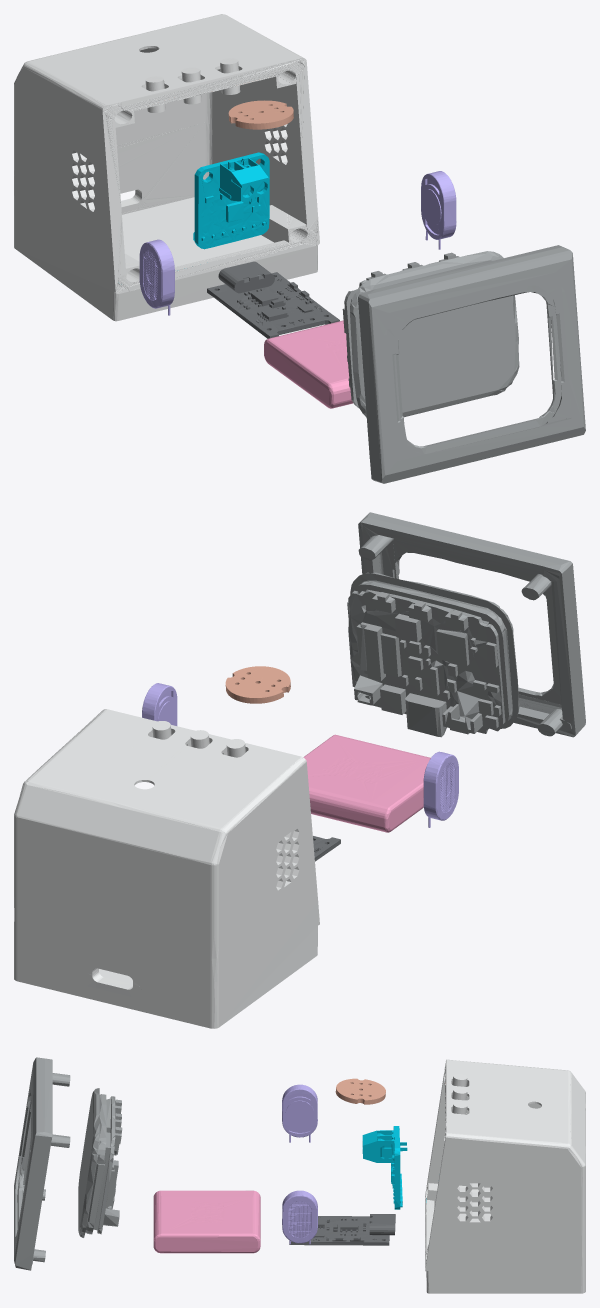
The model's file is v2-open.glb.
3 views of the same model, one above another, from view 1: azimuth 30°, elevation 25°; view 2: azimuth 150°, elevation 25°; view 3: azimuth 270°, elevation 25° (orthographic). The views are drawn at different scales.
Visible parts, largest first — view 1: govde, taban, kart, ekran, hoparlor, yan-2, yan, buton; view 2: govde, taban, hoparlor, yan, buton, yan-2; view 3: govde, taban, hoparlor, ekran, kart, yan, yan-2, buton.
Boxes of the visible parts, <box> form: govde: <box>14,14,319,321</box>; taban: <box>342,245,585,483</box>; kart: <box>193,152,269,249</box>; ekran: <box>207,261,339,338</box>; hoparlor: <box>264,320,353,408</box>; yan-2: <box>421,171,456,249</box>; yan: <box>139,239,174,315</box>; buton: <box>228,100,293,129</box>; govde: <box>14,709,319,1028</box>; taban: <box>347,512,585,737</box>; hoparlor: <box>303,734,430,832</box>; yan: <box>423,751,458,827</box>; buton: <box>225,666,290,703</box>; yan-2: <box>142,683,177,725</box>; govde: <box>425,1059,585,1293</box>; taban: <box>14,1057,122,1270</box>; hoparlor: <box>153,1190,260,1253</box>; ekran: <box>289,1214,395,1245</box>; kart: <box>362,1126,426,1209</box>; yan: <box>282,1084,317,1142</box>; yan-2: <box>282,1190,317,1244</box>; buton: <box>335,1078,445,1104</box>.
Size of the model in its own units: 0.42 by 0.2969 by 0.9143.
